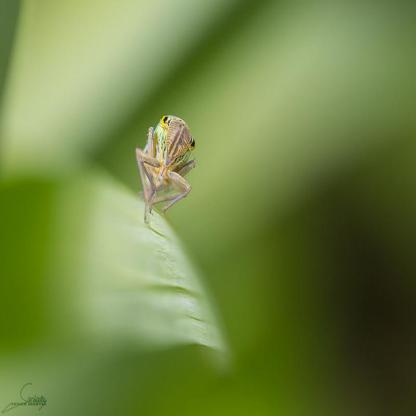Green-Leafhopper: (132, 105, 205, 244)
